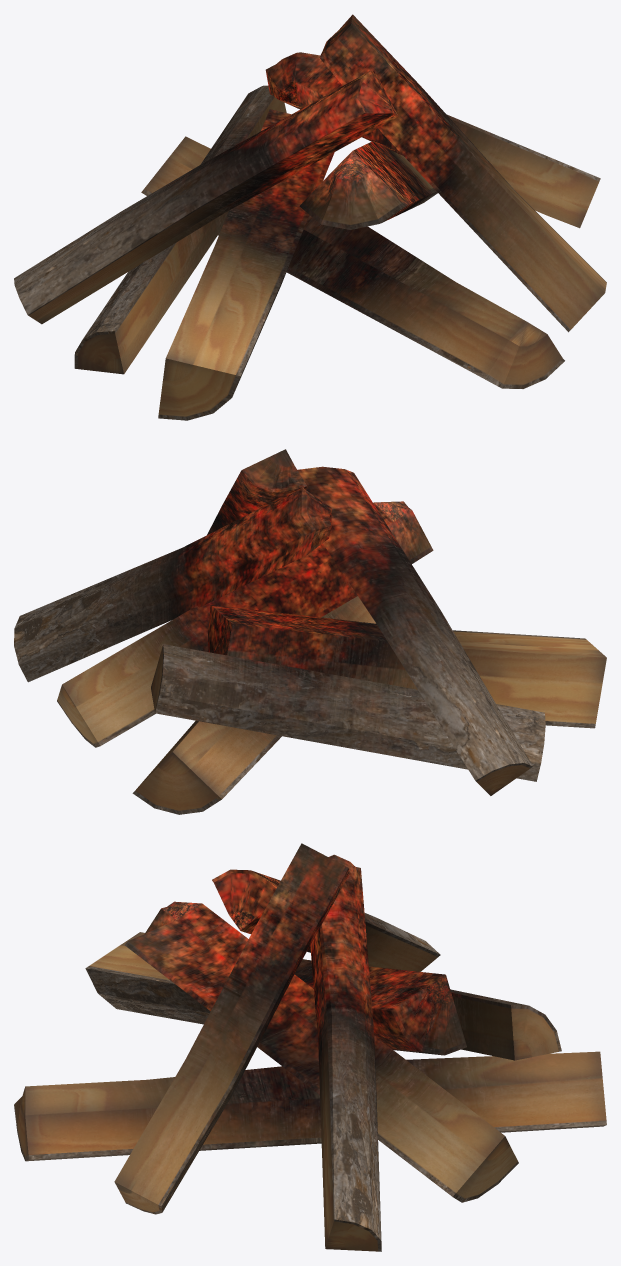
Rendered from Bonfire.fbx.
The picture shows the model from 3 angles, top to bottom: view 1: azimuth 30°, elevation 25°; view 2: azimuth 150°, elevation 25°; view 3: azimuth 270°, elevation 25°; orthographic projection. The views are drawn at different scales.
Parts seen in each view (by area): view 1: Fire_Wood_Main; view 2: Fire_Wood_Main; view 3: Fire_Wood_Main.
Part boxes in pixels (x1,y1,x2,y2): Fire_Wood_Main: (14, 14, 606, 420); Fire_Wood_Main: (14, 449, 606, 814); Fire_Wood_Main: (14, 843, 606, 1251).
Size of the model in its own units: 75.8 by 36.58 by 66.61.
1 material, 1 textured.
